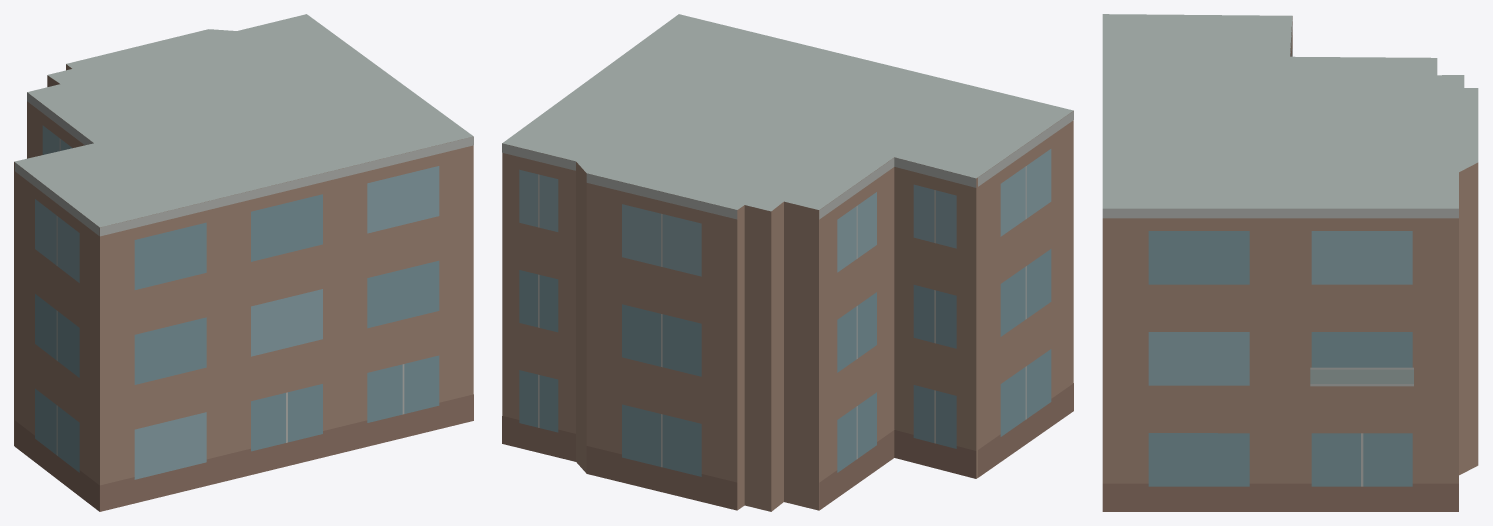
Rendered from survey-upis-32621847.glb.
3 renders of one model, left to right at view 1: azimuth 30°, elevation 25°; view 2: azimuth 150°, elevation 25°; view 3: azimuth 270°, elevation 25°, orthographic. The views are drawn at different scales.
Visible parts, largest first — view 1: survey-upis-32621847.tmp; view 2: survey-upis-32621847.tmp; view 3: survey-upis-32621847.tmp.
Part boxes in pixels (x1,y1,x2,y2): survey-upis-32621847.tmp: (14,14,473,511); survey-upis-32621847.tmp: (502,14,1073,511); survey-upis-32621847.tmp: (1102,14,1478,511).
Bounding box in the file's own units: 10.64 × 7.7 × 8.67.
